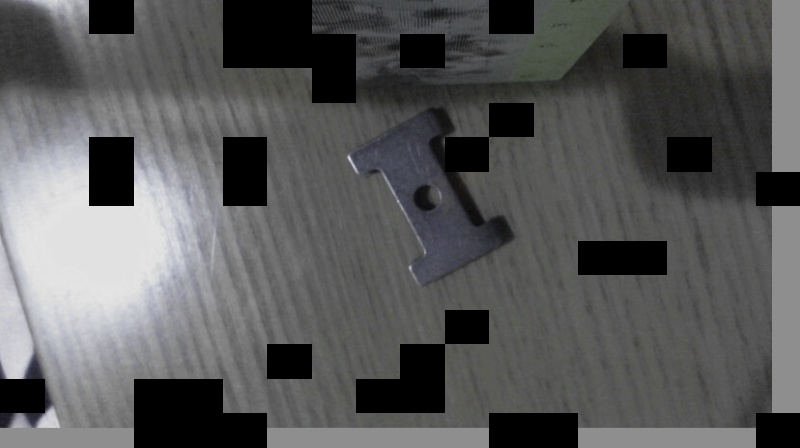O002: (345, 106, 512, 288)
